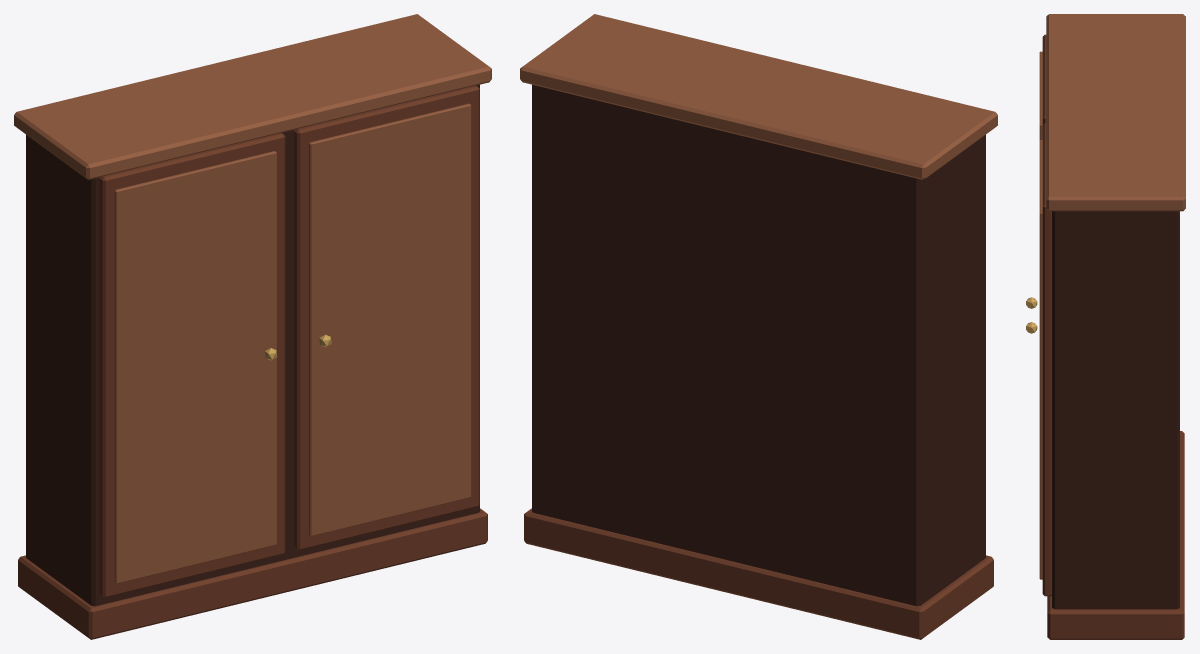
Rendered from cabinet_01.glb.
3 renders of one model, left to right at view 1: azimuth 30°, elevation 25°; view 2: azimuth 150°, elevation 25°; view 3: azimuth 270°, elevation 25°, orthographic. The views are drawn at different scales.
Visible parts, largest first — view 1: Inset_01, Inset_00, Body, Top, Plinth, Front_01, Front_00; view 2: Body, Top, Plinth; view 3: Body, Top, Plinth, Front_01, Inset_01, Front_00, Inset_00.
Boxes of the visible parts, bbox=[...] form: Inset_01: bbox=[309, 103, 471, 536]; Inset_00: bbox=[114, 151, 276, 583]; Body: bbox=[26, 84, 479, 606]; Top: bbox=[14, 14, 491, 179]; Plinth: bbox=[18, 508, 487, 639]; Front_01: bbox=[293, 85, 479, 550]; Front_00: bbox=[99, 133, 285, 597]; Body: bbox=[532, 84, 985, 606]; Top: bbox=[520, 14, 997, 179]; Plinth: bbox=[524, 508, 993, 639]; Body: bbox=[1052, 211, 1179, 609]; Top: bbox=[1046, 14, 1185, 211]; Plinth: bbox=[1047, 431, 1184, 639]; Front_01: bbox=[1042, 123, 1051, 596]; Inset_01: bbox=[1039, 140, 1042, 579]; Front_00: bbox=[1042, 34, 1046, 124]; Inset_00: bbox=[1039, 51, 1042, 140].
Size of the model in its own units: 1.88 by 2.11 by 0.6868.
